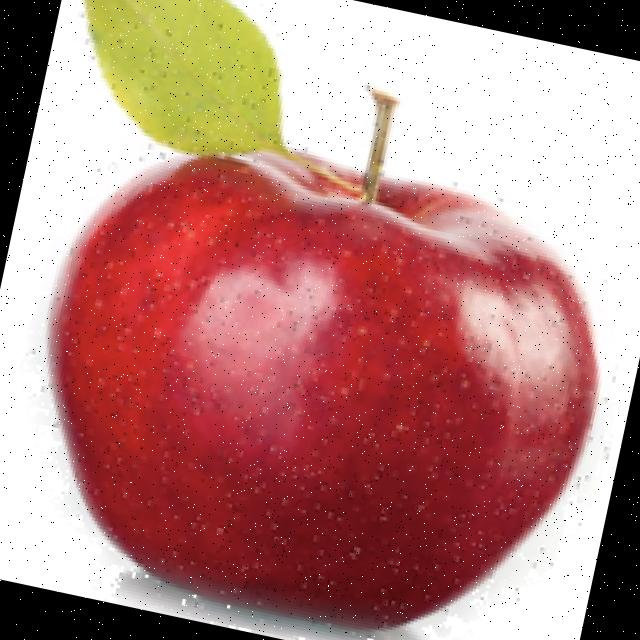apple: (16, 0, 613, 640)
